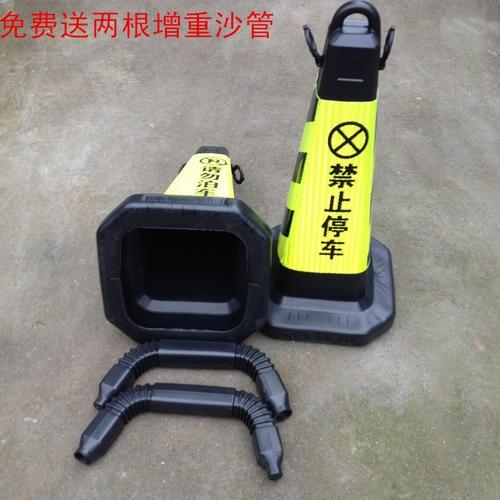cone_barrel: (256, 3, 401, 335), (101, 138, 262, 342)
